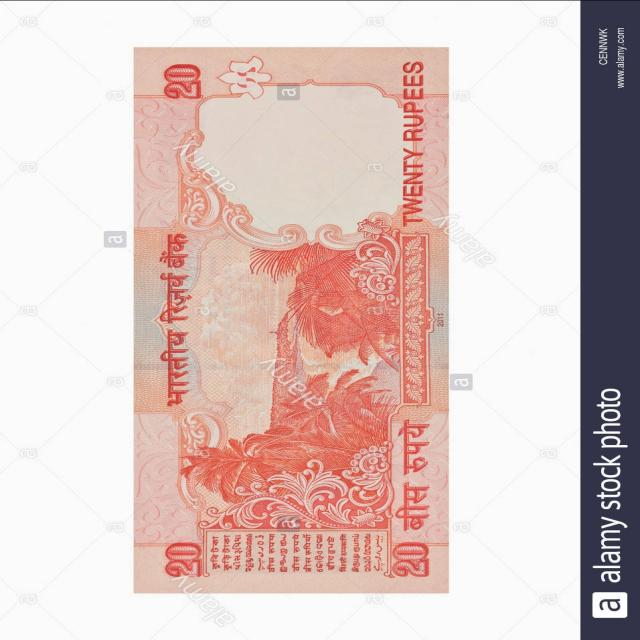20IndianRupees: (138, 52, 439, 588)
